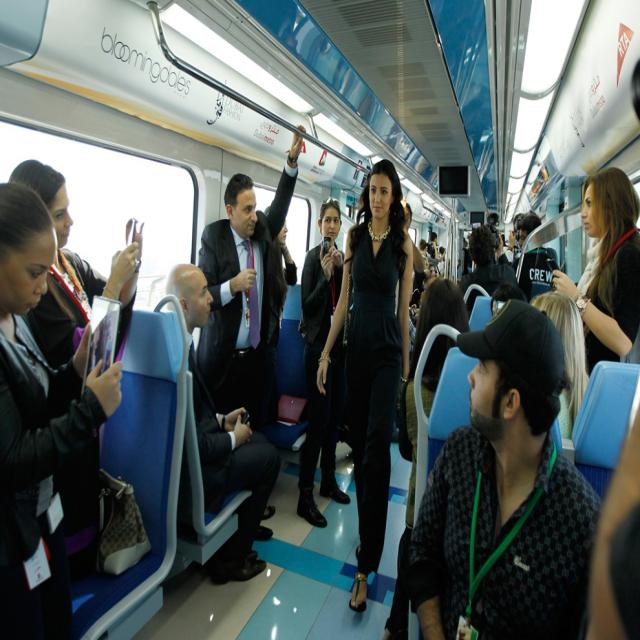body: (405, 297, 605, 638), (4, 156, 147, 590), (0, 180, 122, 639), (314, 155, 414, 616), (163, 263, 280, 587), (196, 123, 305, 434), (380, 278, 470, 640), (294, 194, 352, 528), (551, 166, 640, 377), (589, 401, 638, 639), (528, 291, 591, 442), (458, 224, 519, 320), (264, 204, 298, 352), (513, 210, 557, 304), (407, 270, 429, 363), (403, 199, 426, 274), (429, 228, 448, 286), (504, 208, 522, 265), (417, 238, 432, 270), (462, 228, 472, 274)
